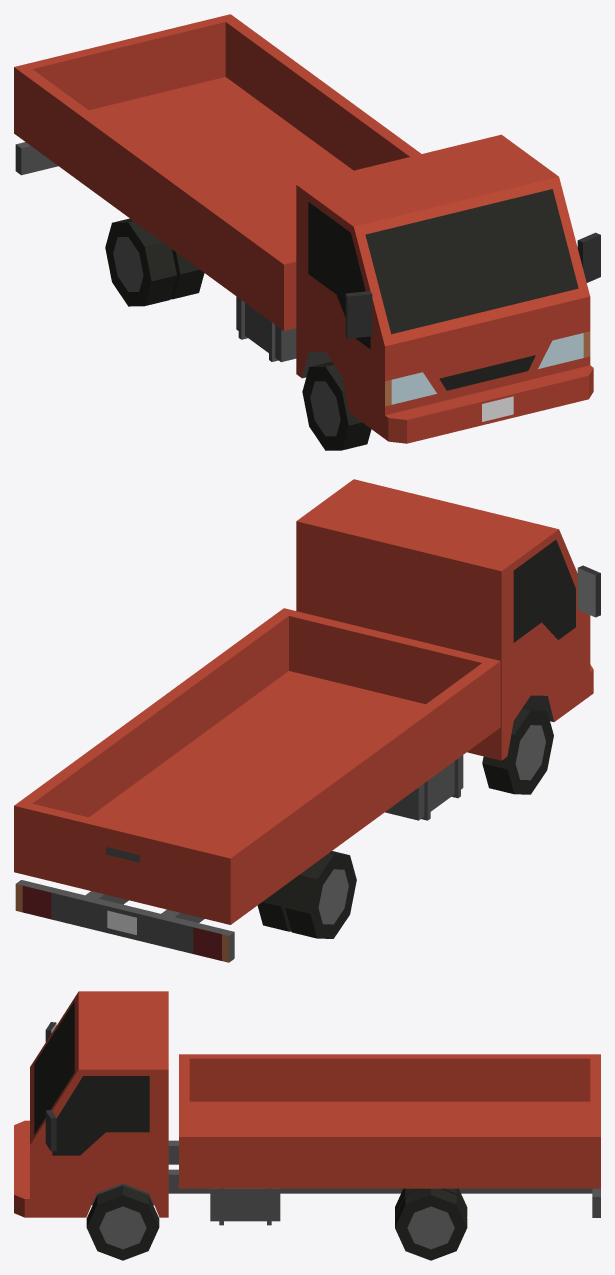
Rendered from Veh_Truck_02_Flat_Red.obj.
3 views of the same model, one above another, from view 1: azimuth 30°, elevation 25°; view 2: azimuth 150°, elevation 25°; view 3: azimuth 270°, elevation 25° (orthographic). The views are drawn at different scales.
Size of the model in its own units: 1.27 by 1.17 by 3.26.
